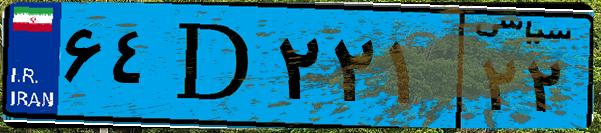1: (385, 28, 445, 110)
2: (270, 28, 330, 110), (330, 28, 385, 110), (475, 38, 525, 113), (525, 38, 570, 115)
4: (110, 28, 158, 98)
6: (57, 26, 110, 100)
D: (158, 12, 270, 120)
